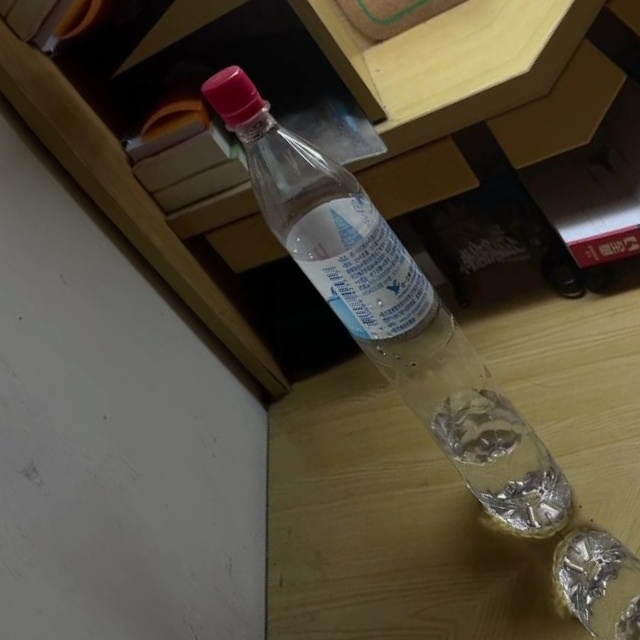Water: (159, 48, 611, 556)
